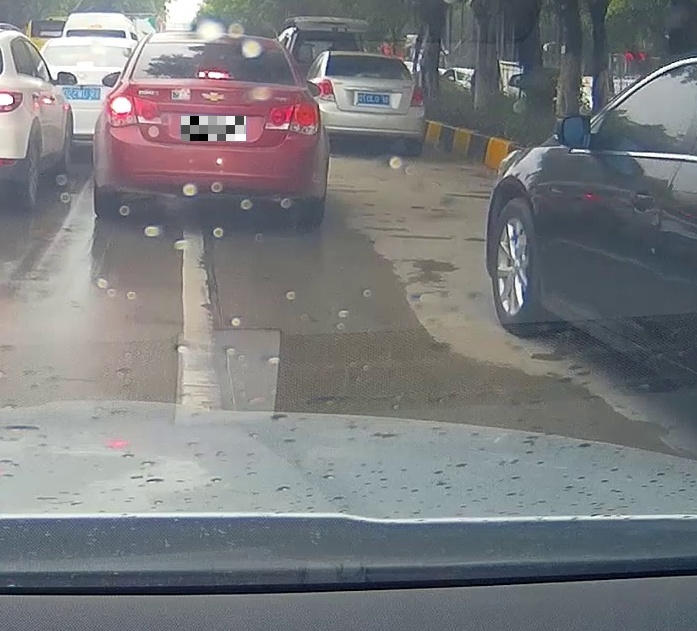L_light: (102, 93, 163, 127)
R_light: (263, 101, 320, 135)
T_light: (196, 70, 233, 80)
day-left: (92, 31, 329, 229)
plate_1: (181, 116, 246, 141)
